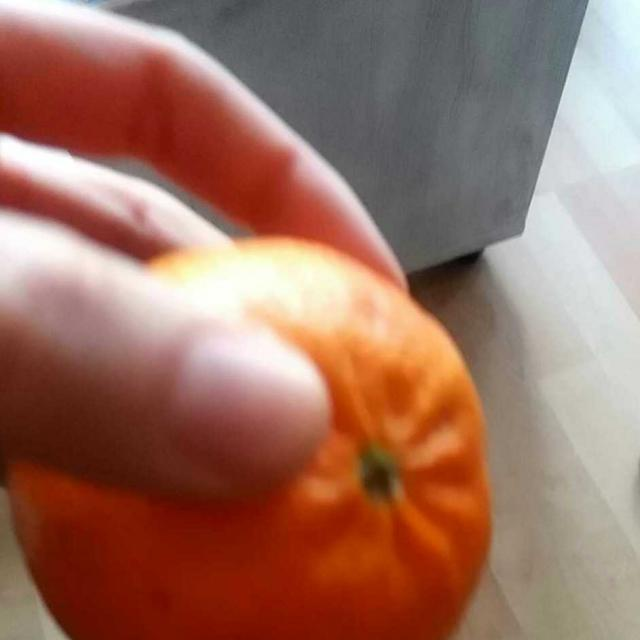mandarine: (36, 150, 490, 605)
